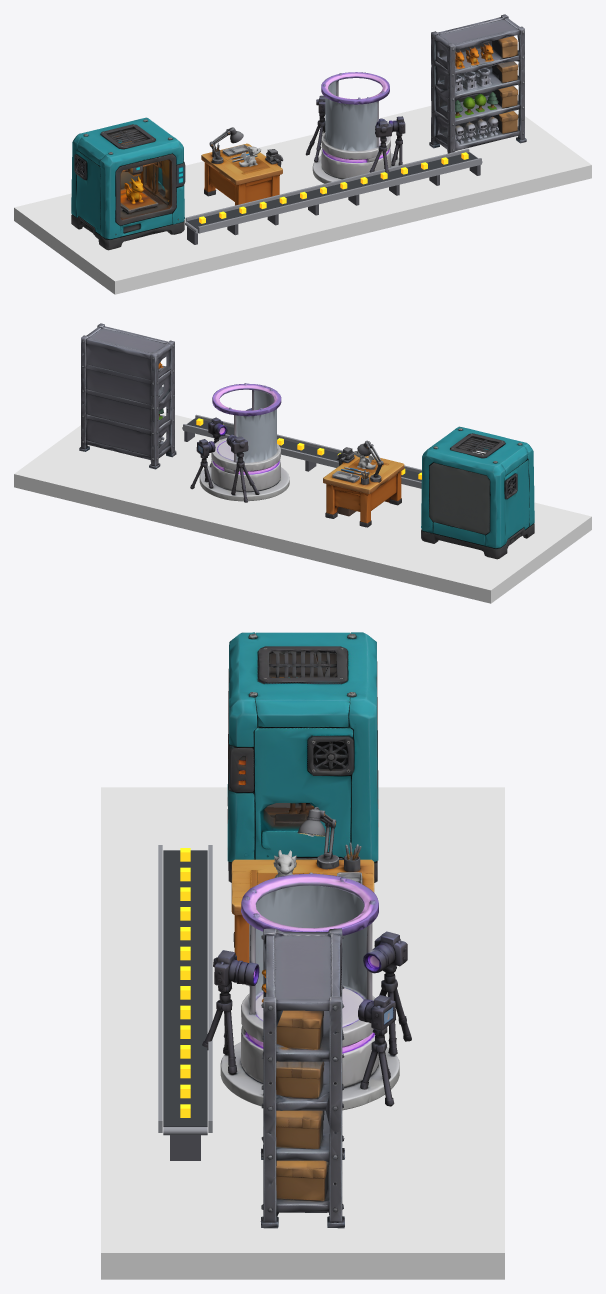
3 renders of one model, top to bottom at view 1: azimuth 30°, elevation 25°; view 2: azimuth 150°, elevation 25°; view 3: azimuth 270°, elevation 25°, orthographic. The views are drawn at different scales.
Parts seen in each view (by area): view 1: table, tripo_node_63661135-b906-42bb-bd63-a3e2cd1d9b14, tripo_node_1089f756-c000-4eee-a0b0-abaf3d00ff3f, tripo_node_9d774b22-40a7-41f7-9d16-40b99e58cc27, tripo_node_eae20a70-8cff-41f6-88eb-4dc6f93b5293, rail_-1, belt, rail_1; view 2: table, tripo_node_63661135-b906-42bb-bd63-a3e2cd1d9b14, tripo_node_1089f756-c000-4eee-a0b0-abaf3d00ff3f, tripo_node_9d774b22-40a7-41f7-9d16-40b99e58cc27, tripo_node_eae20a70-8cff-41f6-88eb-4dc6f93b5293, rail_1, belt, rail_-1; view 3: table, tripo_node_63661135-b906-42bb-bd63-a3e2cd1d9b14, tripo_node_1089f756-c000-4eee-a0b0-abaf3d00ff3f, tripo_node_9d774b22-40a7-41f7-9d16-40b99e58cc27, belt, tripo_node_eae20a70-8cff-41f6-88eb-4dc6f93b5293, rail_-1, rail_1, leg_7.
Part boxes in pixels (box(x1,y1,x2,y2)): table: box(14, 106, 591, 294); tripo_node_63661135-b906-42bb-bd63-a3e2cd1d9b14: box(71, 117, 185, 250); tripo_node_1089f756-c000-4eee-a0b0-abaf3d00ff3f: box(429, 14, 526, 153); tripo_node_9d774b22-40a7-41f7-9d16-40b99e58cc27: box(305, 72, 405, 183); tripo_node_eae20a70-8cff-41f6-88eb-4dc6f93b5293: box(201, 127, 283, 205); rail_-1: box(198, 158, 481, 233); belt: box(187, 152, 477, 229); rail_1: box(185, 148, 469, 221); table: box(14, 412, 591, 603); tripo_node_63661135-b906-42bb-bd63-a3e2cd1d9b14: box(421, 426, 534, 559); tripo_node_1089f756-c000-4eee-a0b0-abaf3d00ff3f: box(79, 323, 176, 469); tripo_node_9d774b22-40a7-41f7-9d16-40b99e58cc27: box(190, 383, 289, 502); tripo_node_eae20a70-8cff-41f6-88eb-4dc6f93b5293: box(323, 440, 404, 527); rail_1: box(183, 424, 421, 488); belt: box(187, 418, 421, 481); rail_-1: box(195, 414, 421, 472); table: box(101, 787, 504, 1279); tripo_node_63661135-b906-42bb-bd63-a3e2cd1d9b14: box(227, 632, 378, 882); tripo_node_1089f756-c000-4eee-a0b0-abaf3d00ff3f: box(260, 928, 344, 1228); tripo_node_9d774b22-40a7-41f7-9d16-40b99e58cc27: box(202, 873, 411, 1110); belt: box(163, 850, 207, 1126); tripo_node_eae20a70-8cff-41f6-88eb-4dc6f93b5293: box(231, 807, 374, 962); rail_-1: box(158, 845, 162, 1132); rail_1: box(208, 845, 212, 1132); leg_7: box(170, 1134, 200, 1160).
Size of the model in its own units: 1.5 by 0.38 by 0.55.
9 materials, 4 textured.
